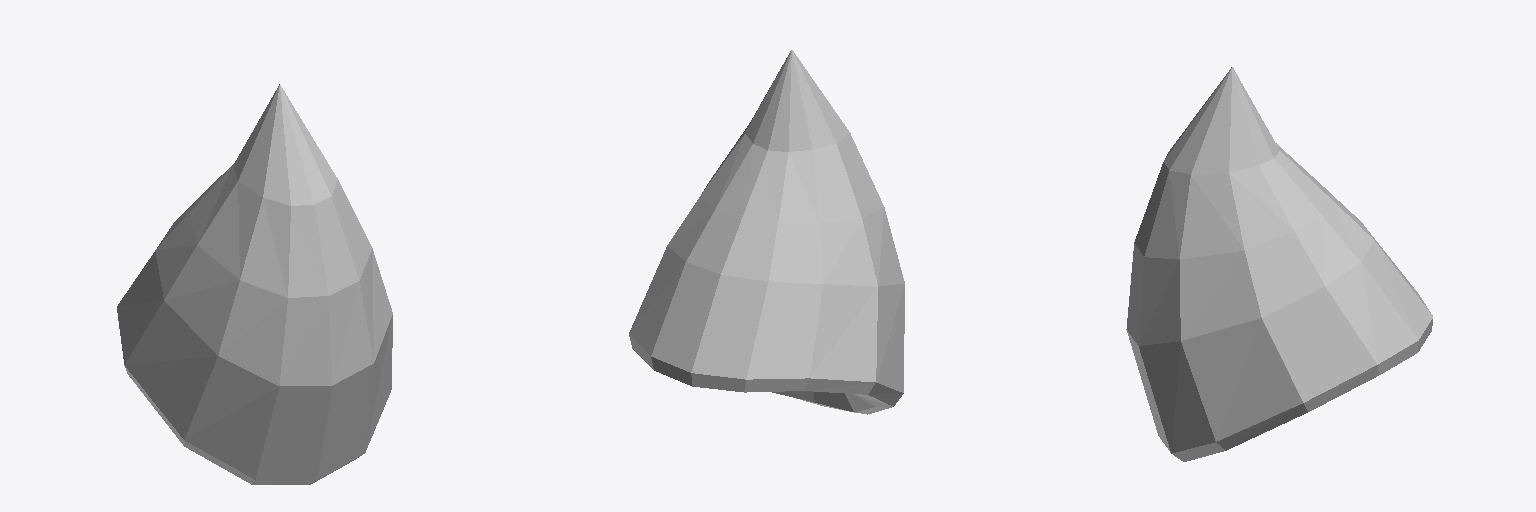
The model's file is hat.obj.
The picture shows the model from 3 angles: view 1: azimuth 30°, elevation 25°; view 2: azimuth 150°, elevation 25°; view 3: azimuth 270°, elevation 25°; orthographic projection.
Bounding box in the file's own units: 3.63 × 5.49 × 4.03.